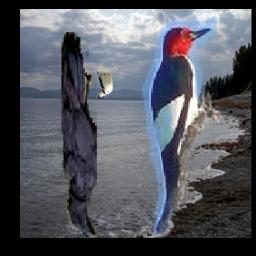Crow: (62, 33, 98, 238)
Swallow: (97, 72, 113, 98)
Woodpecker: (136, 11, 220, 235)
